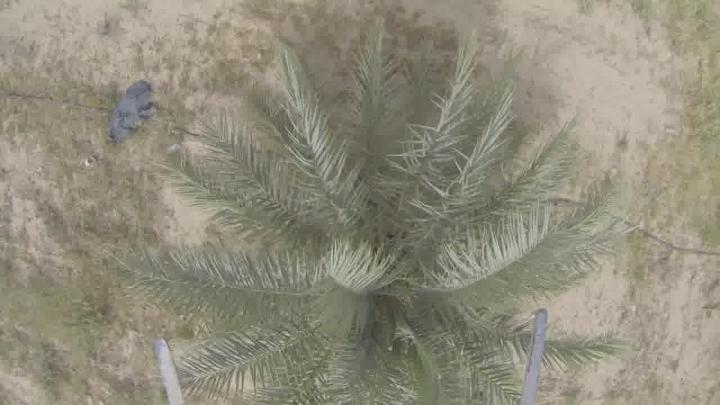Date-Palm-Crown: (267, 135, 513, 405)
